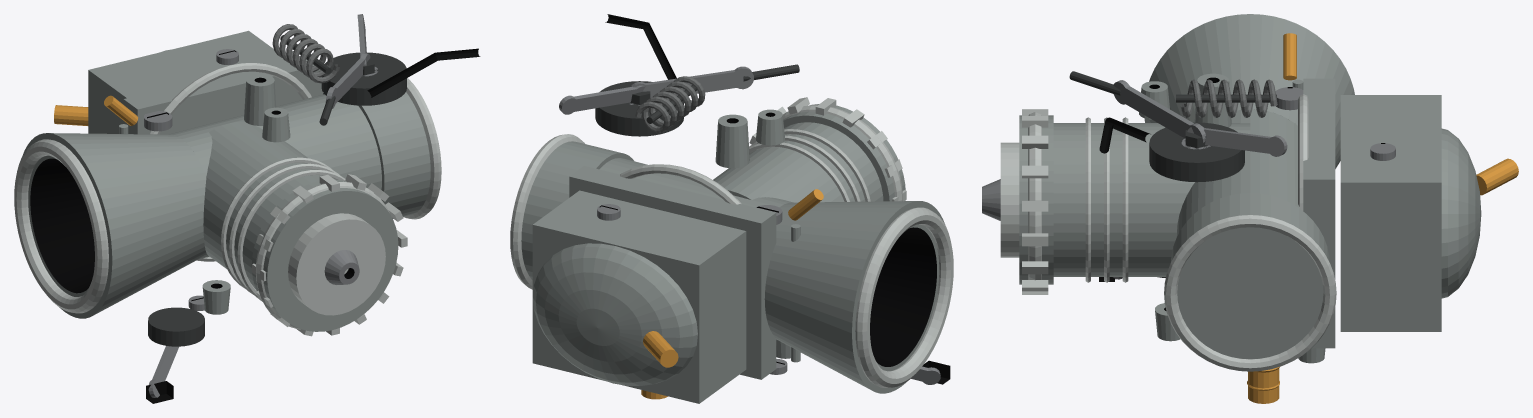
The model's file is carb_01_roundslide_classic.obj.
The picture shows the model from 3 angles, left to right: view 1: azimuth 30°, elevation 25°; view 2: azimuth 150°, elevation 25°; view 3: azimuth 270°, elevation 25°; orthographic projection. The views are drawn at different scales.
Visible parts, largest first — view 1: flared_bellmouth, vertical_slide_tower, top_cap_lower, float_bowl_upper_block, main_venturi_body, top_cable_boss, flared_bellmouth_inner, rounded_bell_lip, rear_outlet_spigot, machined_base_plate, throttle_pulley_disk, return_spring (+19 smaller); view 2: float_bowl_upper_block, float_bowl_rounded_lower, flared_bellmouth, machined_base_plate, vertical_slide_tower, flared_bellmouth_inner, rounded_bell_lip, rear_outlet_spigot, top_cap_lower, return_spring, rear_outlet_bead, flared_bellmouth_front_lip (+15 smaller); view 3: float_bowl_upper_block, rear_outlet_spigot, vertical_slide_tower, flared_bellmouth, rear_outlet_bead, machined_base_plate, main_venturi_body, float_bowl_rounded_lower, throttle_pulley_disk, top_cap_lower, return_spring, top_cable_boss (+16 smaller).
Part boxes in pixels (bbox=[...]): flared_bellmouth: bbox=[49, 133, 206, 314]; vertical_slide_tower: bbox=[203, 121, 335, 289]; top_cap_lower: bbox=[251, 179, 398, 331]; float_bowl_upper_block: bbox=[88, 30, 283, 133]; main_venturi_body: bbox=[169, 94, 381, 258]; top_cable_boss: bbox=[288, 213, 385, 315]; flared_bellmouth_inner: bbox=[30, 158, 94, 293]; rounded_bell_lip: bbox=[14, 139, 108, 313]; rear_outlet_spigot: bbox=[323, 92, 430, 218]; machined_base_plate: bbox=[123, 59, 322, 134]; throttle_pulley_disk: bbox=[321, 52, 406, 105]; return_spring: bbox=[272, 24, 340, 83]; float_bowl_upper_block: bbox=[532, 190, 746, 403]; float_bowl_rounded_lower: bbox=[532, 243, 697, 385]; flared_bellmouth: bbox=[764, 201, 916, 389]; machined_base_plate: bbox=[569, 166, 776, 379]; vertical_slide_tower: bbox=[713, 122, 883, 202]; flared_bellmouth_inner: bbox=[870, 227, 936, 366]; rounded_bell_lip: bbox=[855, 207, 953, 387]; rear_outlet_spigot: bbox=[521, 141, 633, 279]; top_cap_lower: bbox=[783, 104, 905, 201]; return_spring: bbox=[635, 76, 705, 132]; rear_outlet_bead: bbox=[510, 134, 584, 289]; flared_bellmouth_front_lip: bbox=[852, 201, 945, 393]; float_bowl_upper_block: bbox=[1340, 95, 1441, 331]; rear_outlet_spigot: bbox=[1171, 193, 1329, 359]; vertical_slide_tower: bbox=[1053, 123, 1250, 276]; flared_bellmouth: bbox=[1144, 14, 1354, 168]; rear_outlet_bead: bbox=[1164, 214, 1336, 371]; machined_base_plate: bbox=[1303, 78, 1335, 348]; main_venturi_body: bbox=[1176, 109, 1301, 236]; float_bowl_rounded_lower: bbox=[1441, 128, 1481, 298]; throttle_pulley_disk: bbox=[1149, 122, 1244, 182]; top_cap_lower: bbox=[1019, 115, 1053, 284]; return_spring: bbox=[1180, 79, 1277, 117]; top_cable_boss: bbox=[1000, 142, 1019, 257].
Size of the model in its own units: 0.1746 by 0.1337 by 0.2021.
